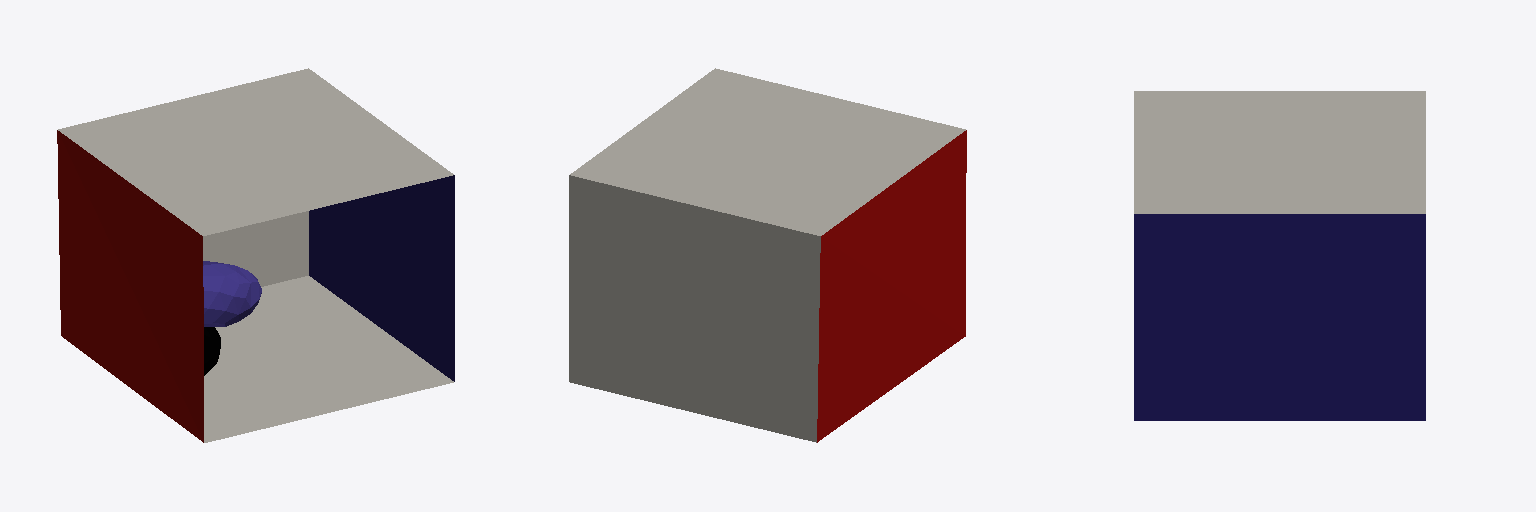
The model's file is CornellBox-Ellipsoid-132.obj.
3 renders of one model, left to right at view 1: azimuth 30°, elevation 25°; view 2: azimuth 150°, elevation 25°; view 3: azimuth 270°, elevation 25°, orthographic.
Parts seen in each view (by area): view 1: ceiling, leftWall, floor, rightWall, backWall, leftSphere, rightSphere; view 2: backWall, ceiling, leftWall; view 3: rightWall, ceiling.
Part boxes in pixels (bbox=[...]): ceiling: bbox=[58, 68, 453, 235]; leftWall: bbox=[57, 130, 203, 442]; floor: bbox=[204, 276, 453, 442]; rightWall: bbox=[309, 175, 454, 381]; backWall: bbox=[203, 211, 308, 286]; leftSphere: bbox=[203, 261, 261, 326]; rightSphere: bbox=[204, 327, 220, 375]; backWall: bbox=[569, 175, 820, 442]; ceiling: bbox=[570, 68, 965, 235]; leftWall: bbox=[817, 130, 966, 442]; rightWall: bbox=[1134, 214, 1425, 420]; ceiling: bbox=[1134, 91, 1425, 213].
Bounding box in the file's own units: 2.02 × 1.59 × 2.03.